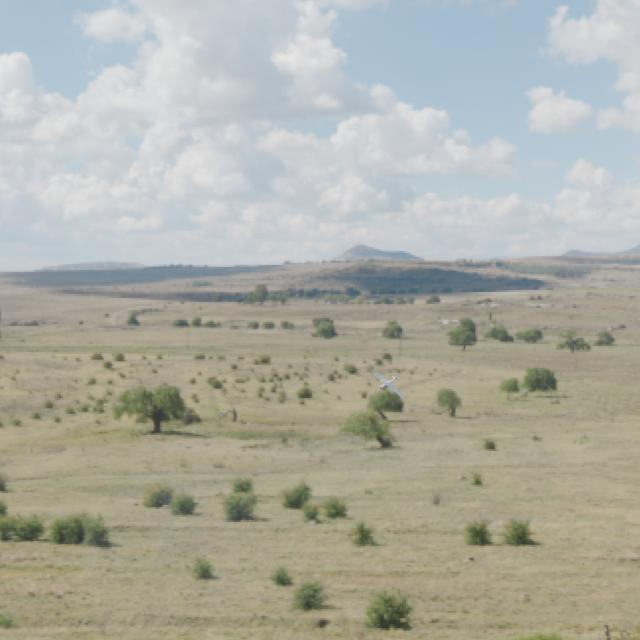Airaplan: (374, 372, 405, 398)
